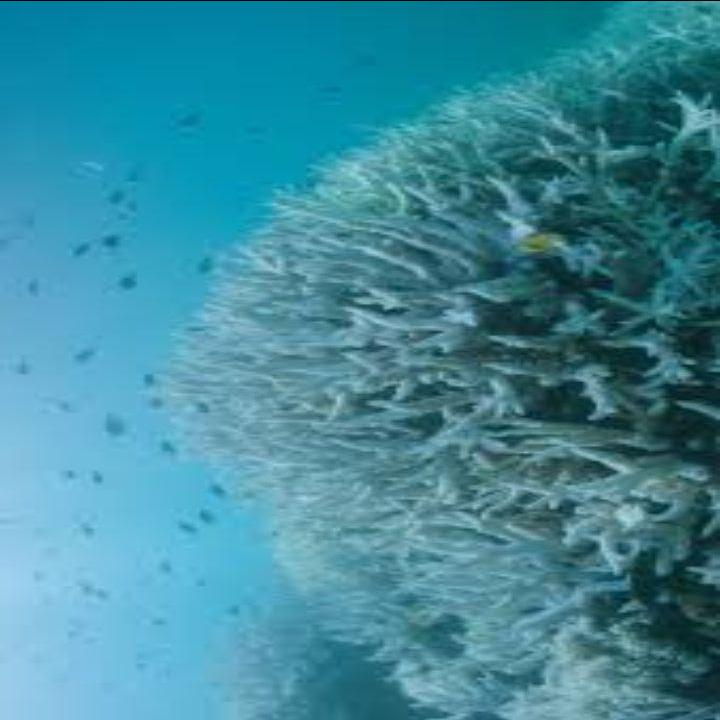Bleached disease: (220, 12, 692, 682)
